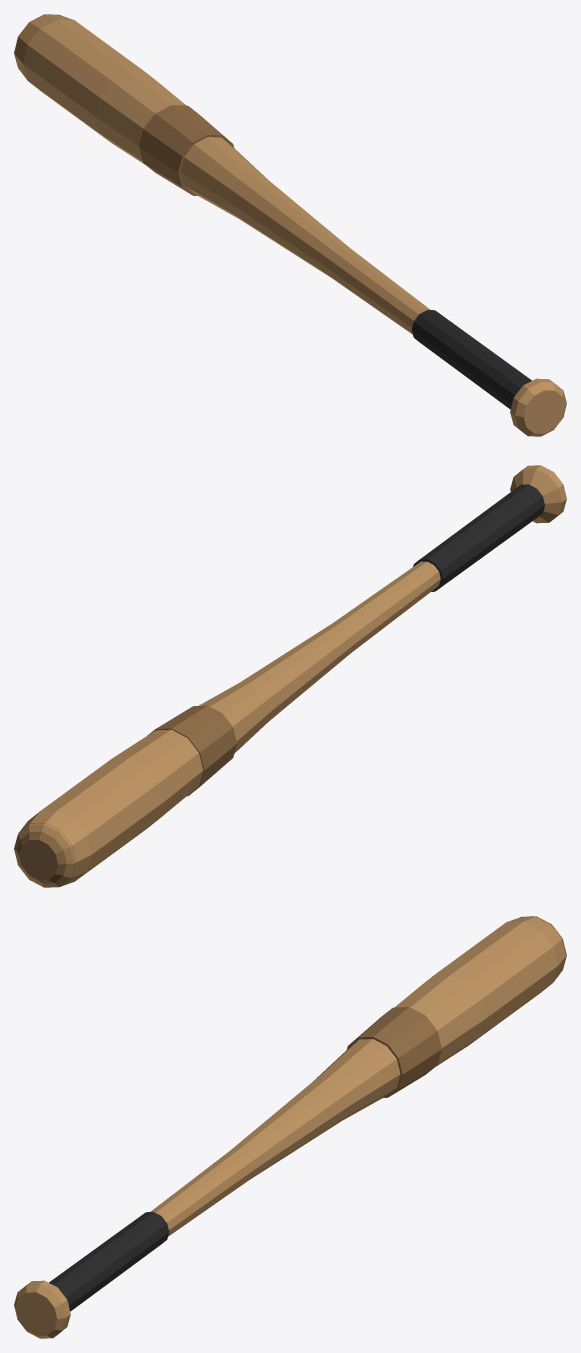
File: batte.glb
The picture shows the model from 3 angles, top to bottom: view 1: azimuth 30°, elevation 25°; view 2: azimuth 150°, elevation 25°; view 3: azimuth 330°, elevation 25°; orthographic projection.
Parts seen in each view (by area): view 1: bat, tape, ring; view 2: bat, tape, ring, cap; view 3: bat, tape, ring.
Part boxes in pixels (x1,y1,x2,y2): bat: (14,14,566,436); tape: (411,310,531,409); ring: (139,105,234,195); bat: (14,465,566,887); tape: (413,484,544,591); ring: (147,705,236,796); cap: (17,823,76,886); bat: (14,916,566,1338); tape: (49,1212,169,1311); ring: (346,1007,441,1097).
Size of the model in its own units: 0.066 by 0.066 by 0.841.
Materials: 3 (3 with a texture image).
